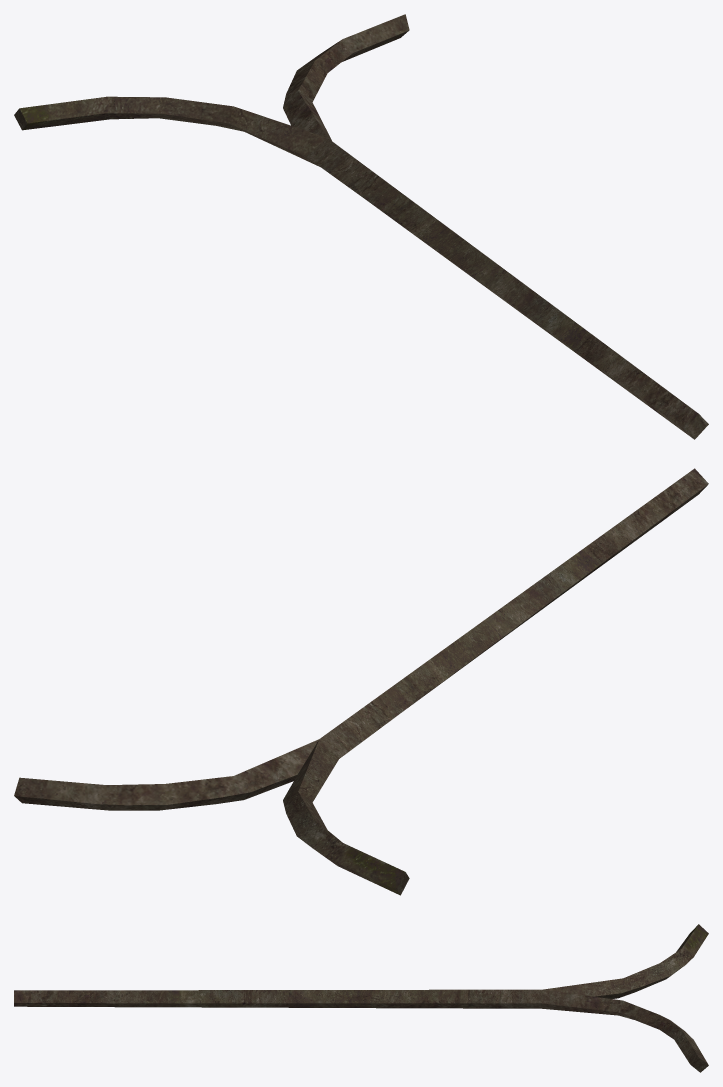
The model's file is TI_IronBar_09.fbx.
3 views of the same model, one above another, from view 1: azimuth 30°, elevation 25°; view 2: azimuth 150°, elevation 25°; view 3: azimuth 270°, elevation 25° (orthographic). The views are drawn at different scales.
Visible parts, largest first — view 1: TI_IronBar_09; view 2: TI_IronBar_09; view 3: TI_IronBar_09.
Boxes of the visible parts, box(x1,y1,x2,y2) form: TI_IronBar_09: box(14, 14, 708, 439); TI_IronBar_09: box(14, 468, 708, 895); TI_IronBar_09: box(14, 924, 708, 1072).
Bounding box in the file's own units: 0.784 × 0.0569 × 1.73.
